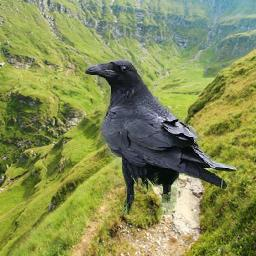Crow: (85, 59, 237, 215)
